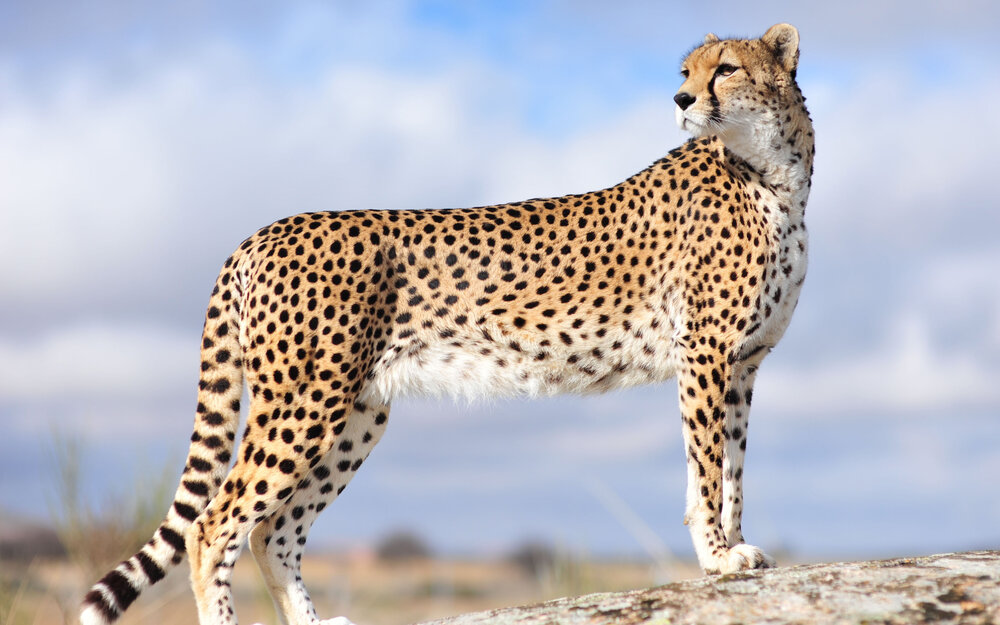cheetah: (640, 14, 840, 185)
